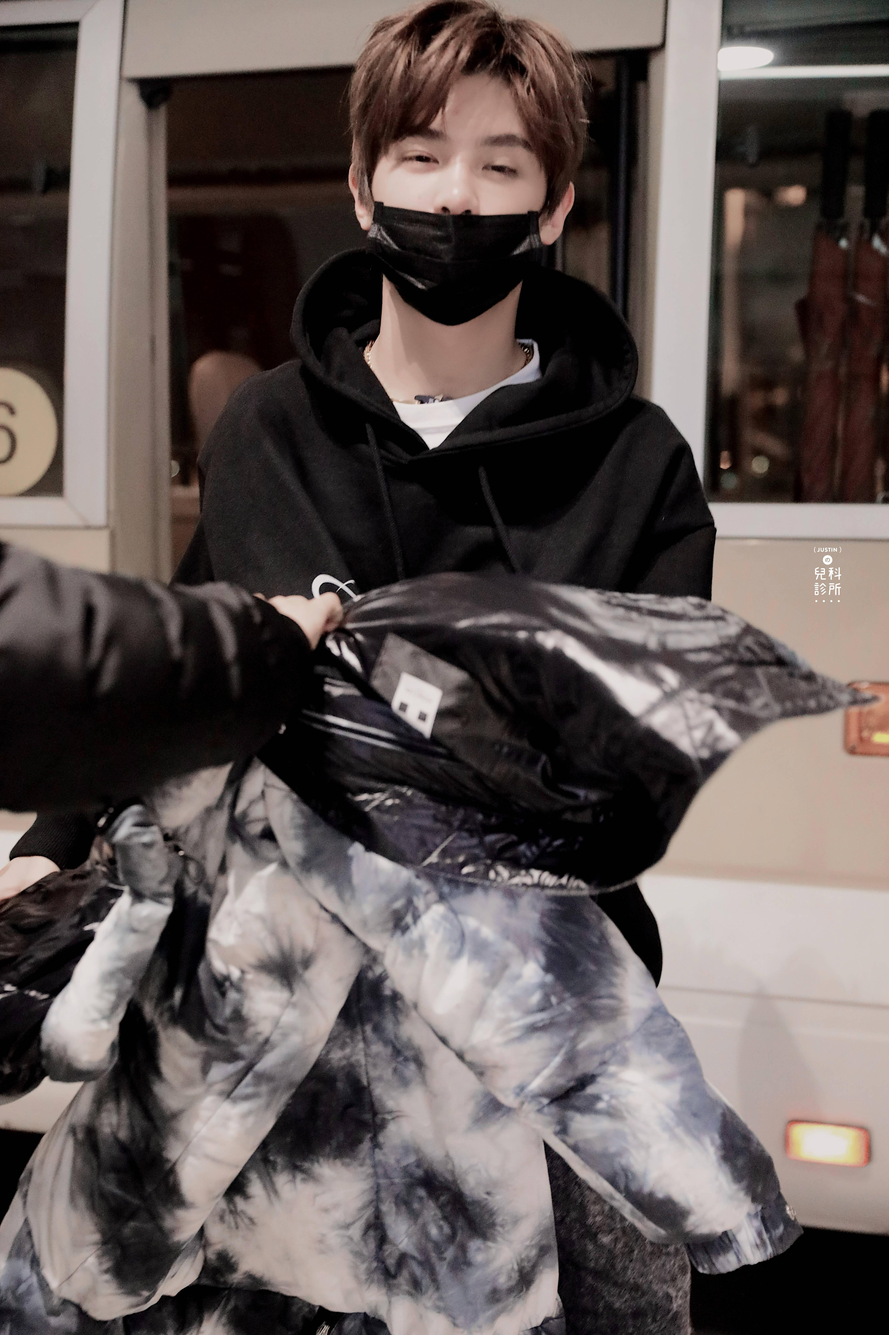WRONG: (370, 99, 545, 317)
